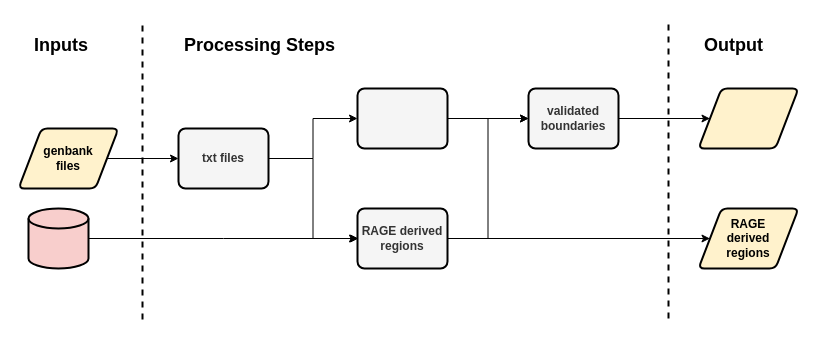
Image size: 816x338. Some labels were removed from this diagram. Each missing label, with the box of its shape:
Complete RAGEs: (697, 87, 799, 149)
putative boundaries: (356, 87, 448, 149)
RAGE proteins: (27, 207, 89, 269)
